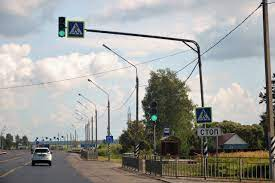tl: (56, 15, 67, 39), (148, 100, 157, 122)
